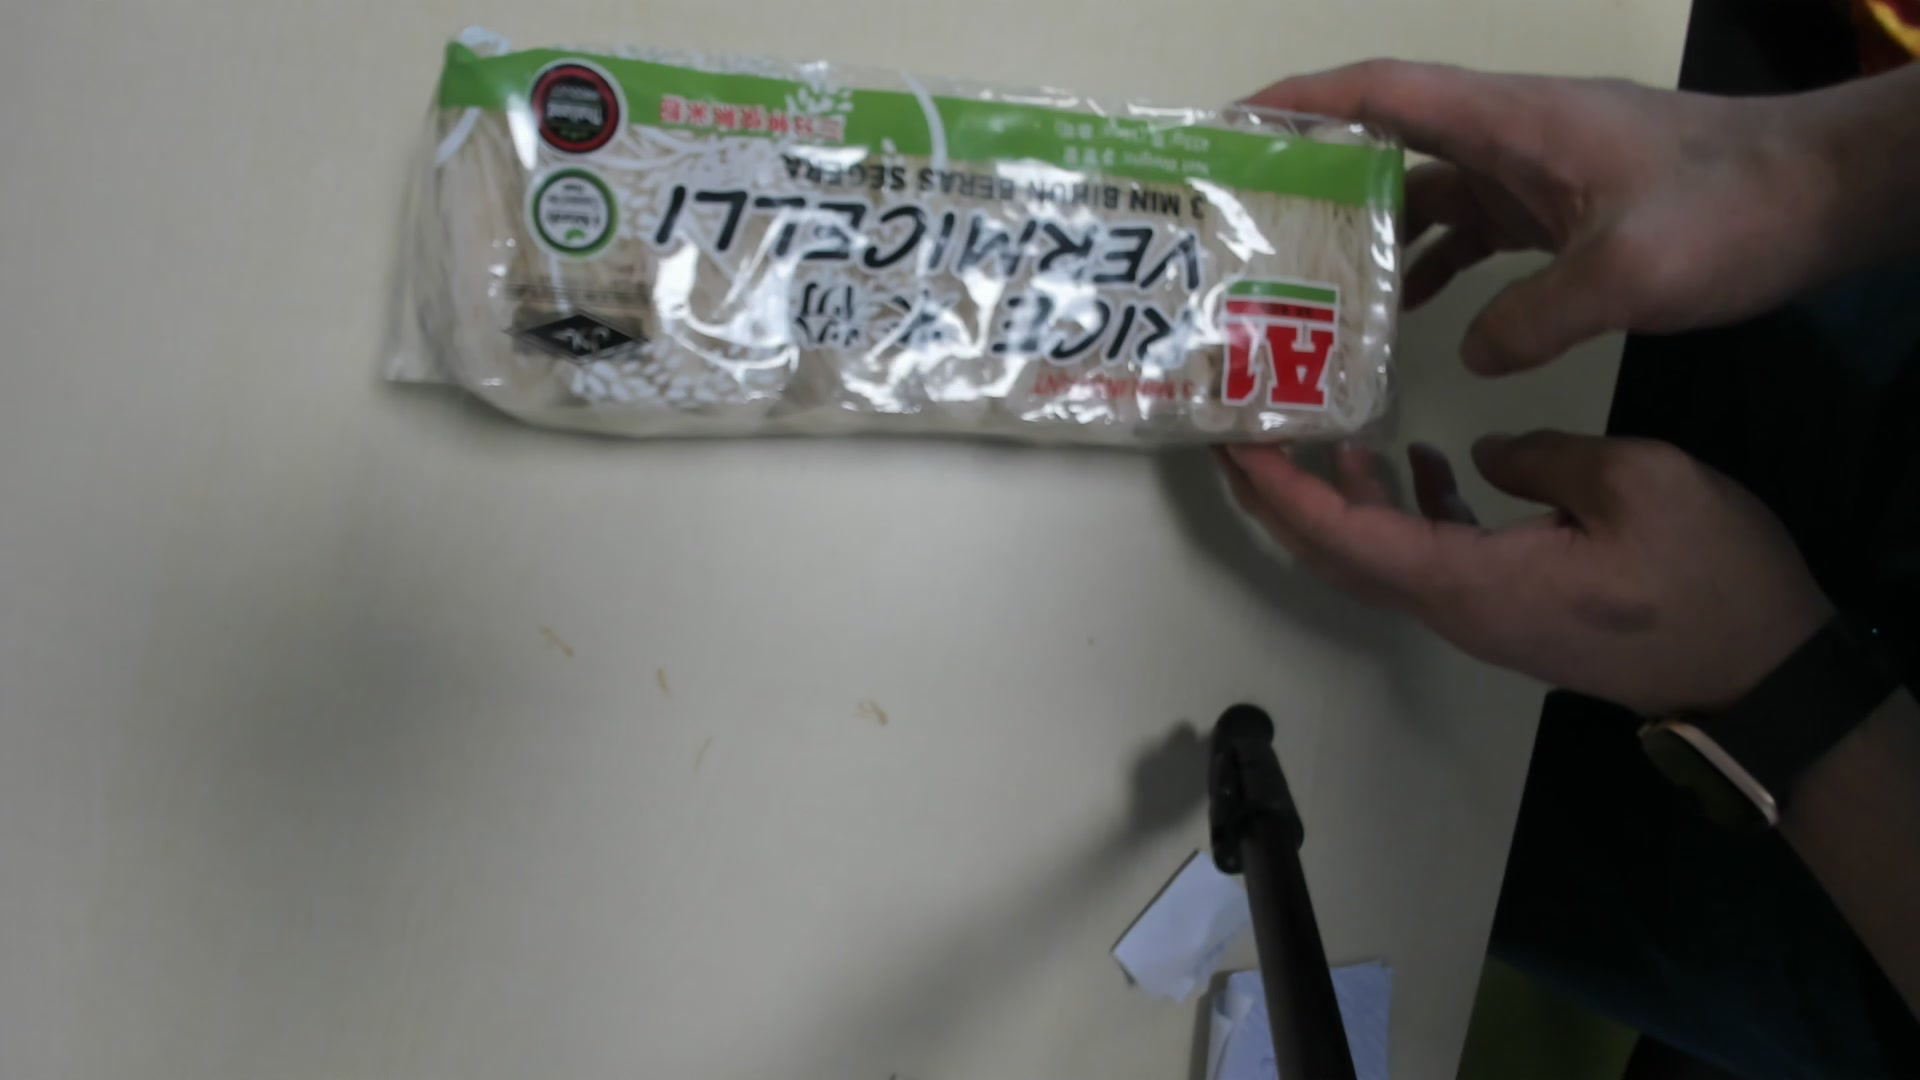BeeHoonVermicelli_400-499g_Halal_NonHealthy: (414, 33, 1418, 456)
